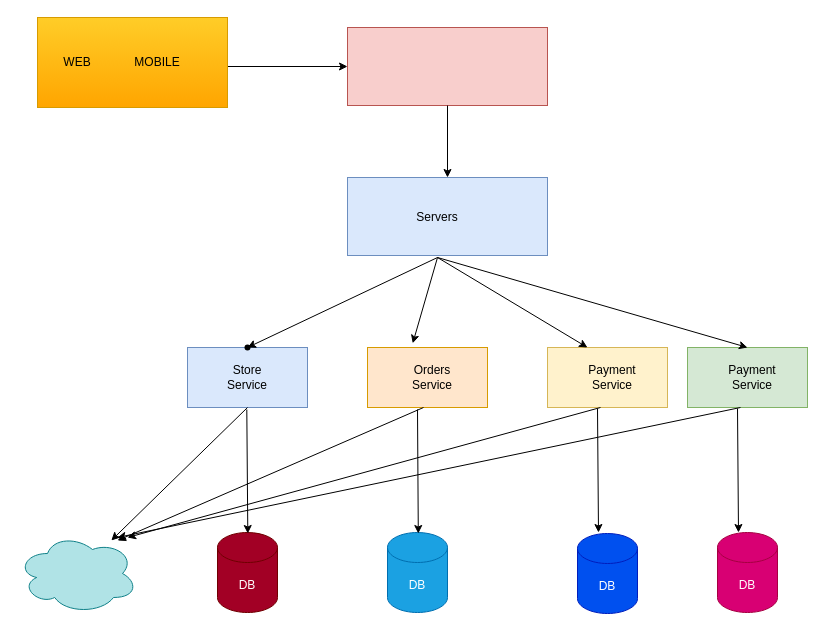
Some shapes in this 825 by 631 pixel diagram are drawn without their labels. The shapes that lost their labels are listed below. From the top down, each one's centre as x and y in pixels, then its label:
At (447,66): "ELB".
At (77,573): "S3".
